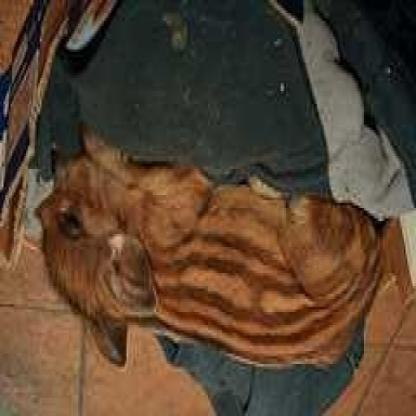boar: (12, 111, 415, 355)
